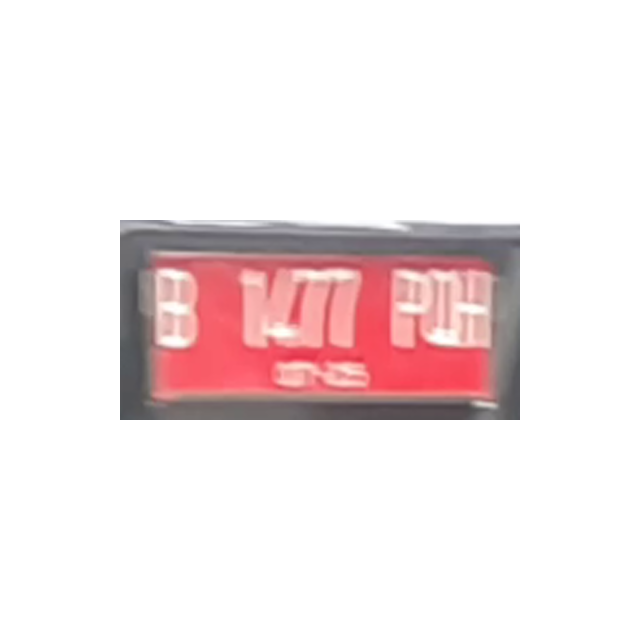contain: (148, 263, 200, 348), (388, 267, 432, 353), (259, 261, 301, 350), (330, 263, 371, 351), (224, 264, 265, 349), (427, 267, 461, 355), (466, 263, 499, 352), (300, 268, 333, 353)
